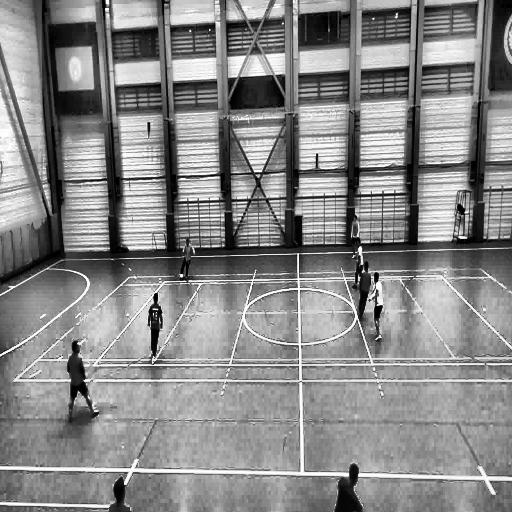ball: (179, 272, 185, 284)
player: (68, 338, 100, 420), (328, 466, 384, 512), (147, 291, 164, 362), (356, 261, 371, 324), (370, 272, 383, 342), (352, 236, 364, 291), (180, 238, 194, 279), (351, 214, 360, 256)
